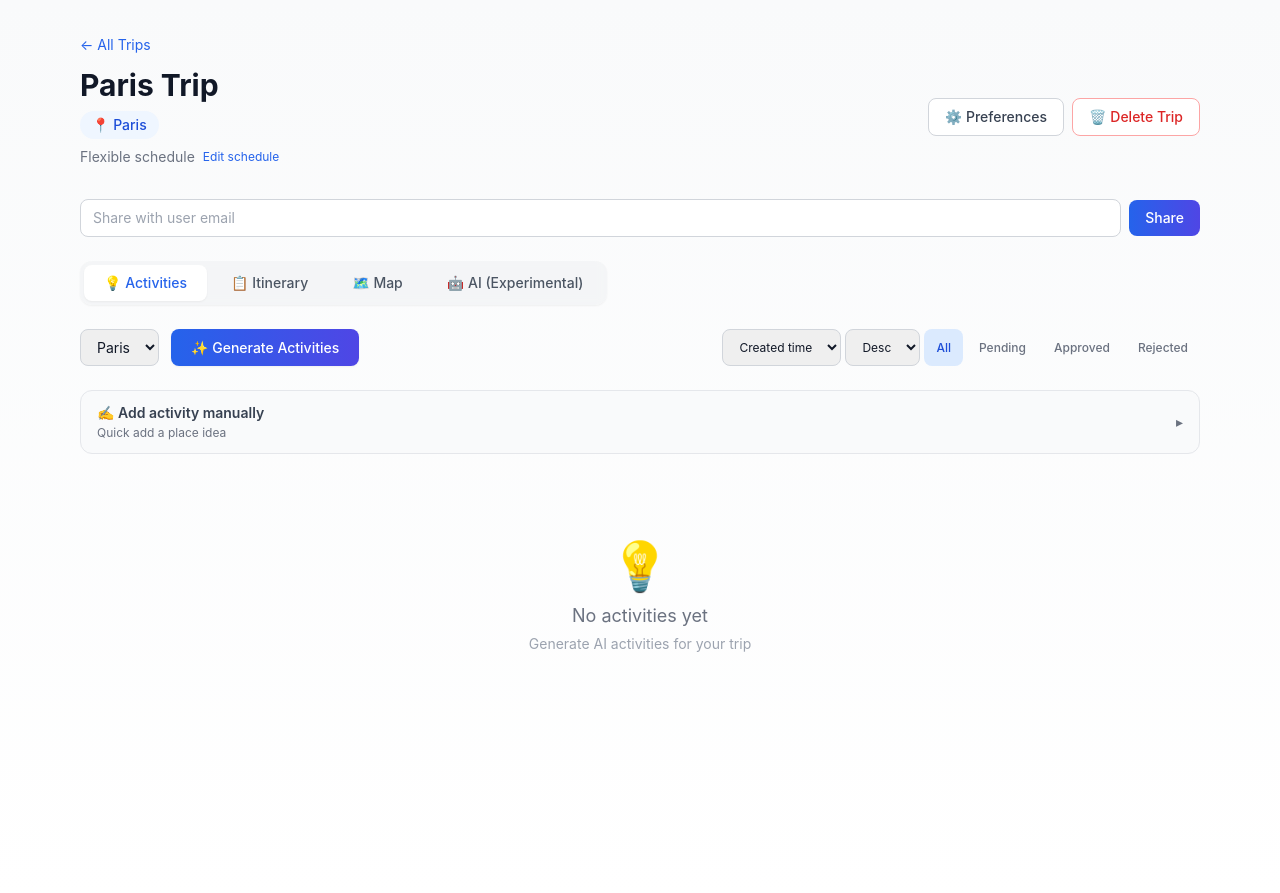
Test: Trip detail manual activity form › toggles advanced details and updates aria-expanded state
Expected: the heading "Paris Trip" is shown, top-left (80, 67), bottom-right (219, 103)
Click the button "✍️ Add activity manually Quick add a place idea ▸" at [181, 412], box top-left (81, 391), bottom-right (1199, 453)
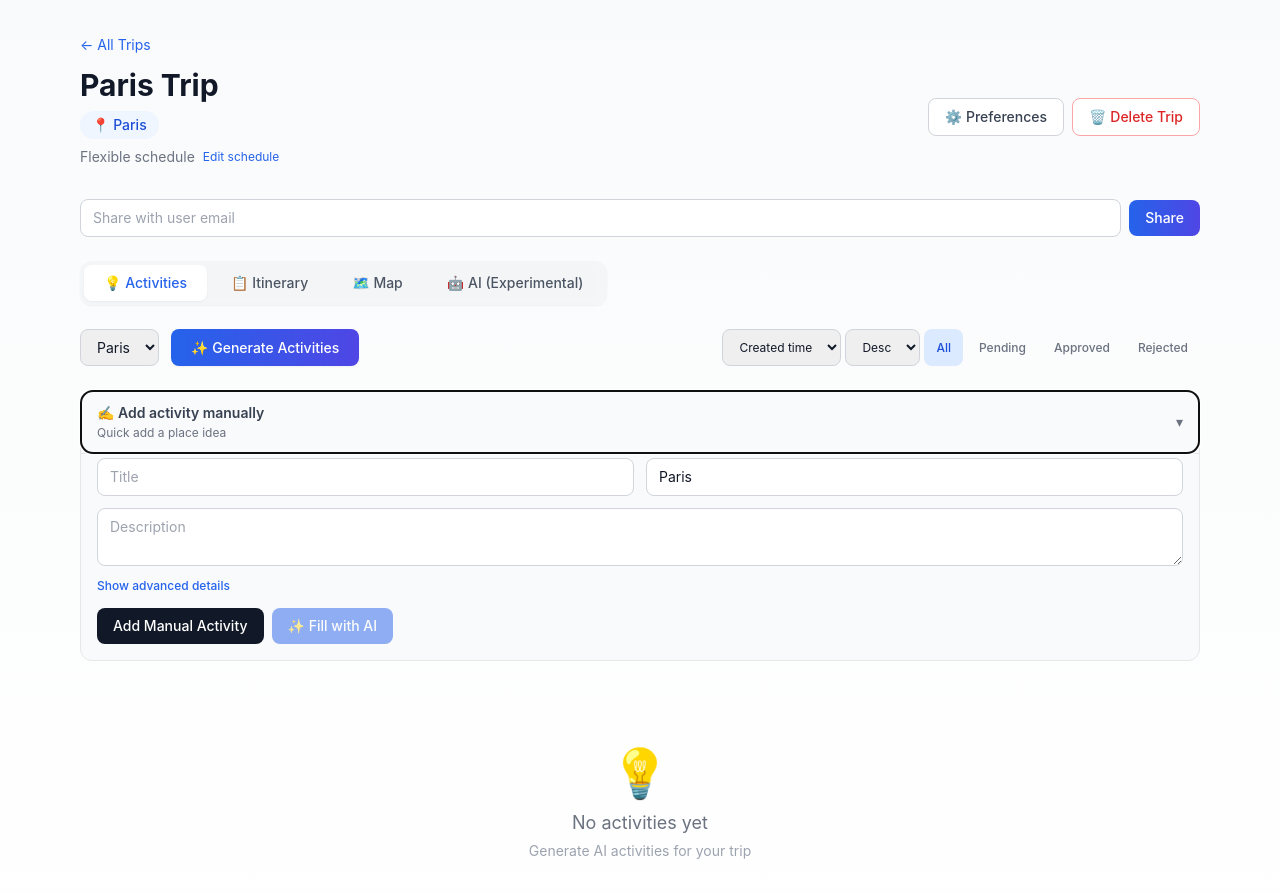
Expected: the field with placeholder "Duration (minutes, optional)" is not shown
Click the button "Show advanced details" at [163, 586], box top-left (97, 578), bottom-right (230, 594)
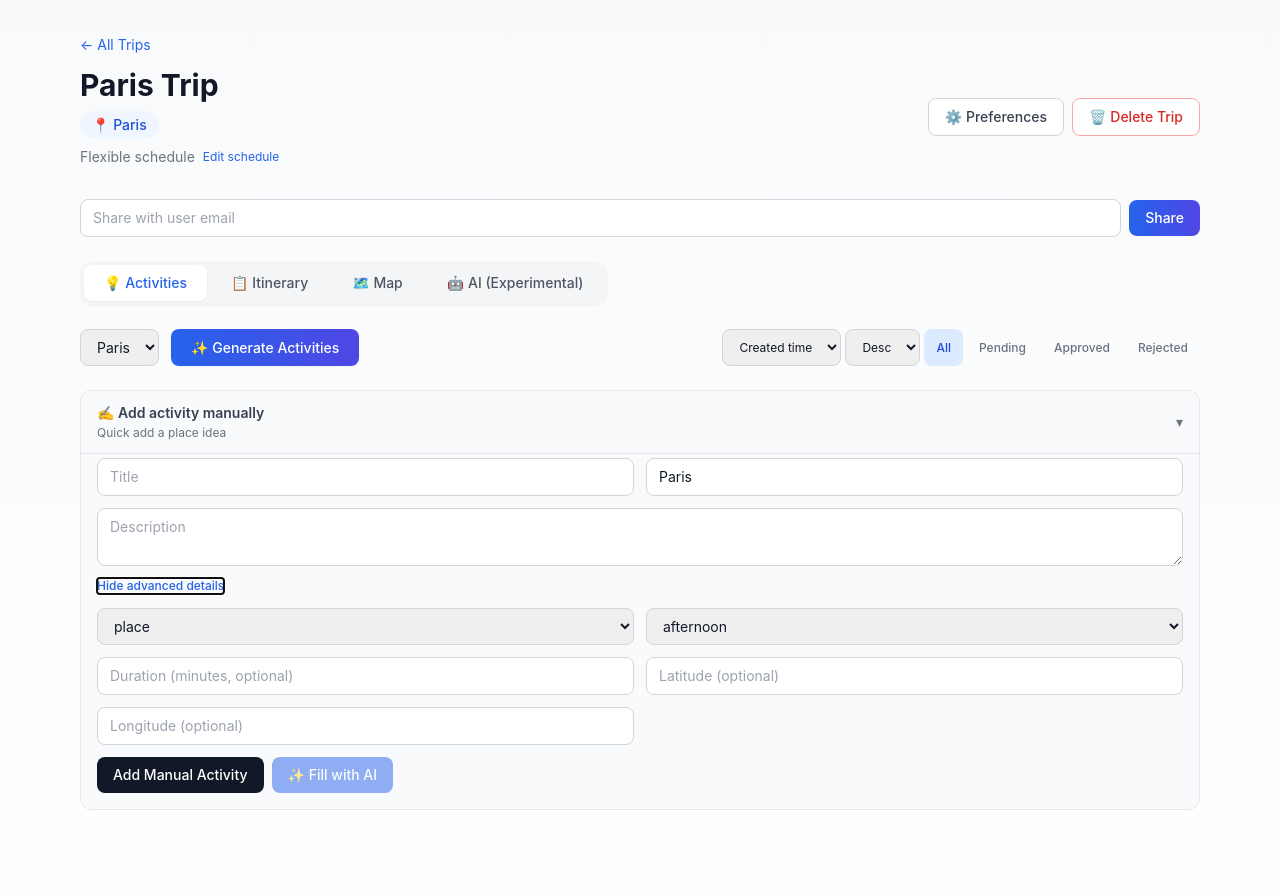
Now the button "Hide advanced details" is expanded
Now the number field with placeholder "Duration (minutes, optional)" is shown, box top-left (97, 657), bottom-right (634, 695)
Click the button "Hide advanced details" at [161, 586], box top-left (97, 578), bottom-right (224, 594)
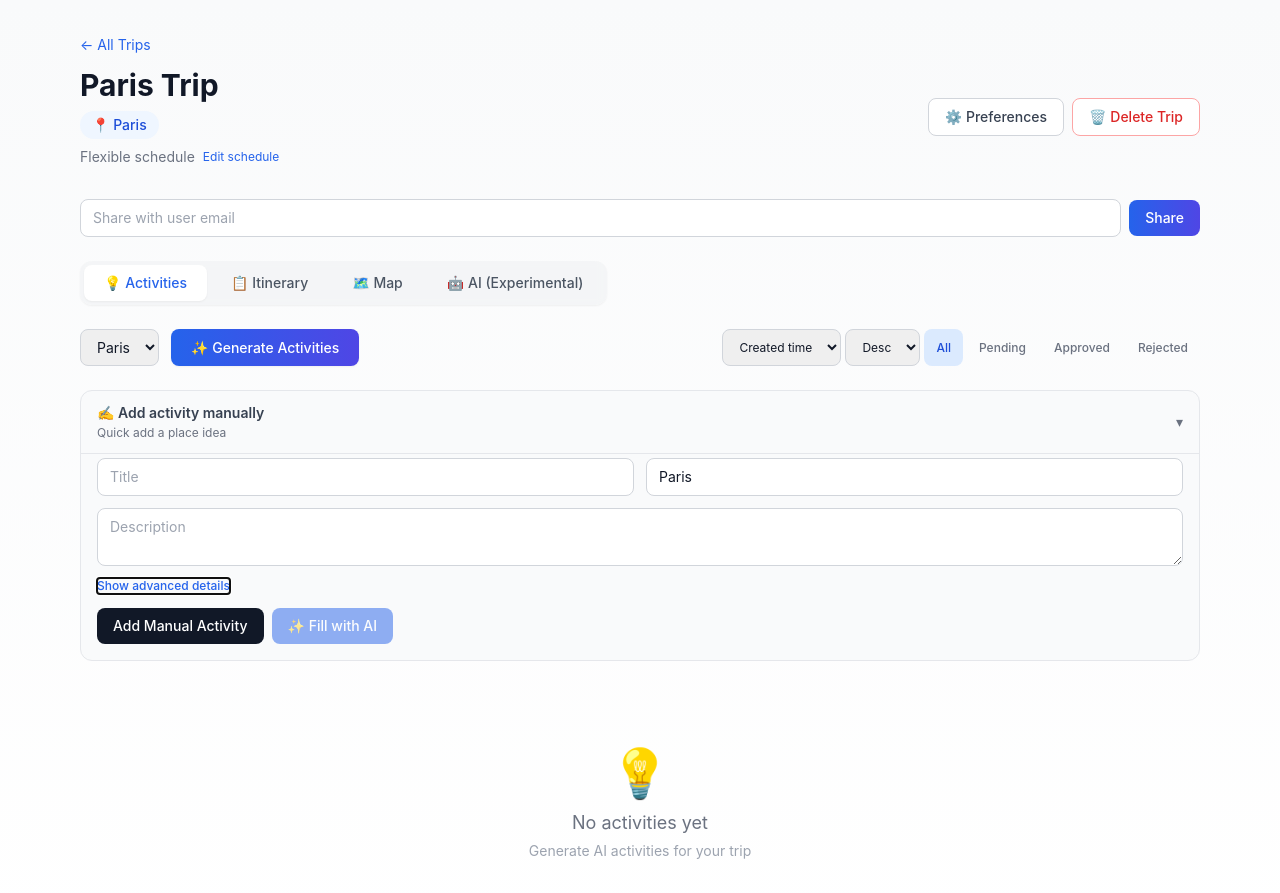
Expected: the field with placeholder "Duration (minutes, optional)" is not shown
Now the button "Show advanced details" is collapsed, box top-left (97, 578), bottom-right (230, 594)
